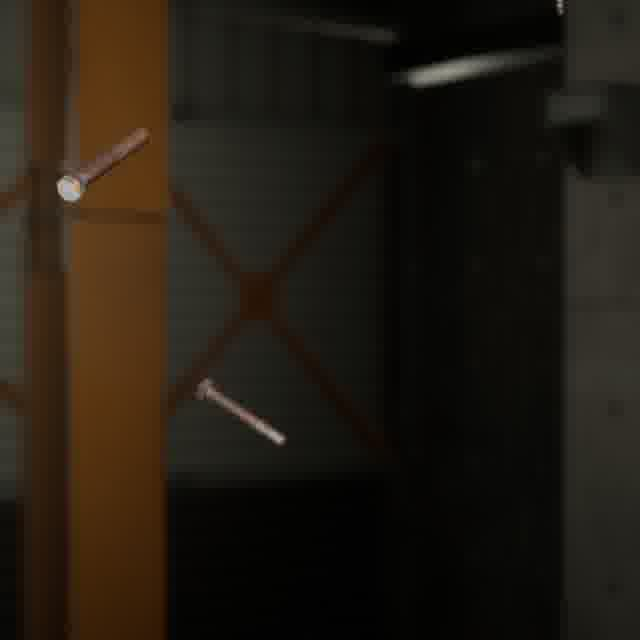bolt: (52, 123, 153, 207), (191, 374, 291, 451)
